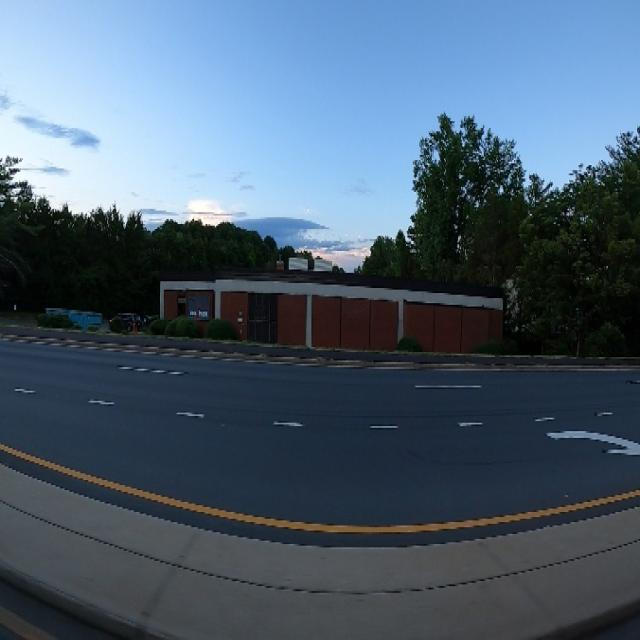cars: (106, 302, 143, 337)
